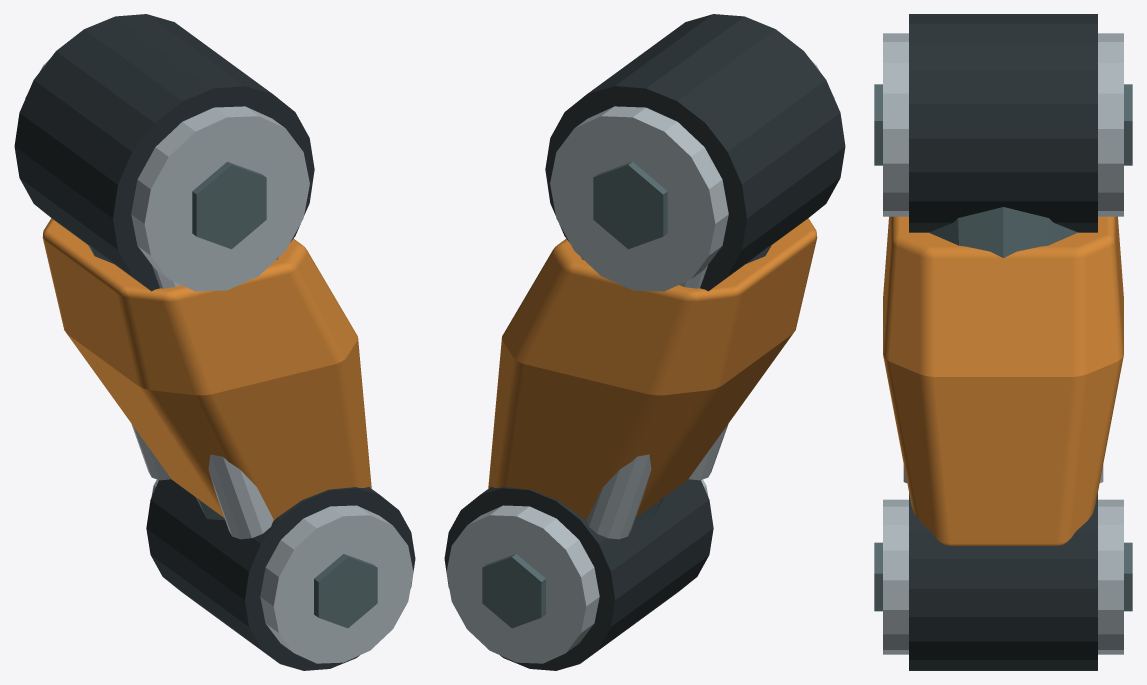
The model's file is SM_LoaderThigh.fbx.
The picture shows the model from 3 angles, left to right: view 1: azimuth 30°, elevation 25°; view 2: azimuth 150°, elevation 25°; view 3: azimuth 270°, elevation 25°; orthographic projection. The views are drawn at different scales.
Parts seen in each view (by area): view 1: SM_LoaderThigh; view 2: SM_LoaderThigh; view 3: SM_LoaderThigh.
Boxes of the visible parts, x1=… form: SM_LoaderThigh: x1=14, y1=14, x2=415, y2=670; SM_LoaderThigh: x1=444, y1=14, x2=845, y2=670; SM_LoaderThigh: x1=874, y1=14, x2=1132, y2=670.
Size of the model in its own units: 39 by 30 by 75.
